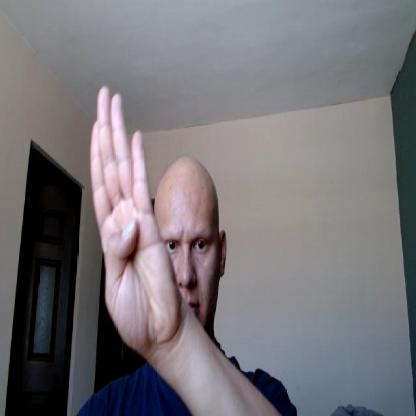B: (90, 86, 179, 348)
